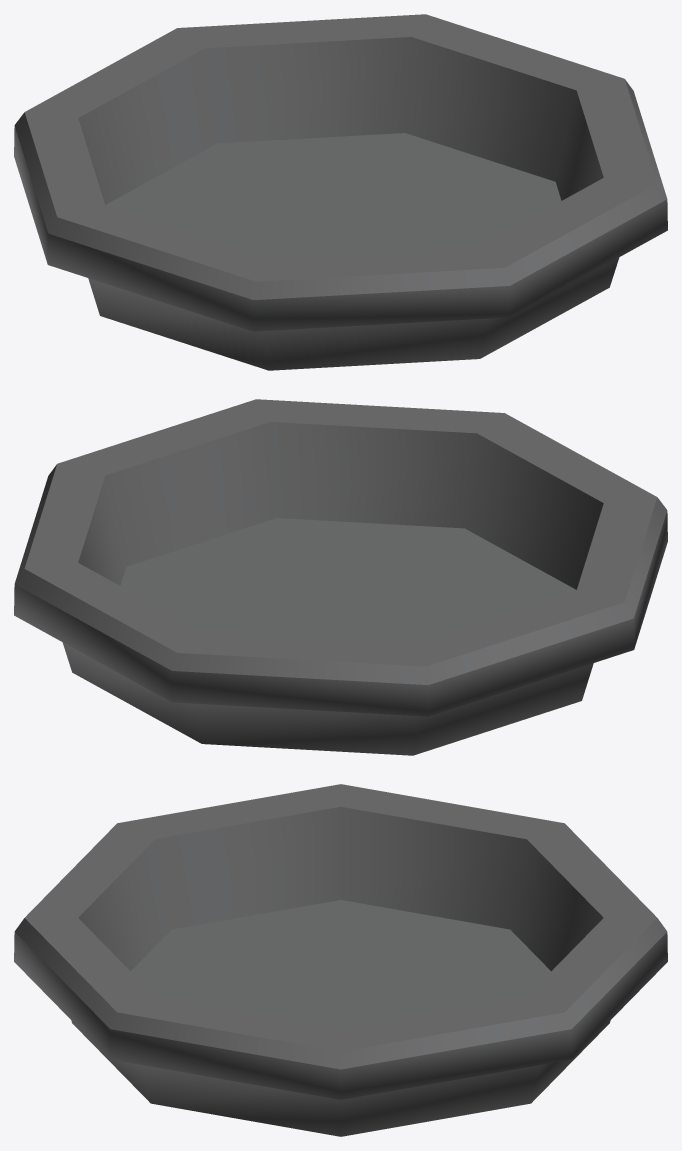
The model's file is Plate_2_B.glb.
3 views of the same model, one above another, from view 1: azimuth 30°, elevation 25°; view 2: azimuth 150°, elevation 25°; view 3: azimuth 270°, elevation 25° (orthographic). The views are drawn at different scales.
Visible parts, largest first — view 1: Plate_2_B; view 2: Plate_2_B; view 3: Plate_2_B.
Part boxes in pixels (x1=…): Plate_2_B: x1=14, y1=14, x2=667, y2=370; Plate_2_B: x1=14, y1=399, x2=667, y2=755; Plate_2_B: x1=14, y1=784, x2=667, y2=1136.
Size of the model in its own units: 0.1948 by 0.0347 by 0.1948.
Materials: 1 (1 with a texture image).
